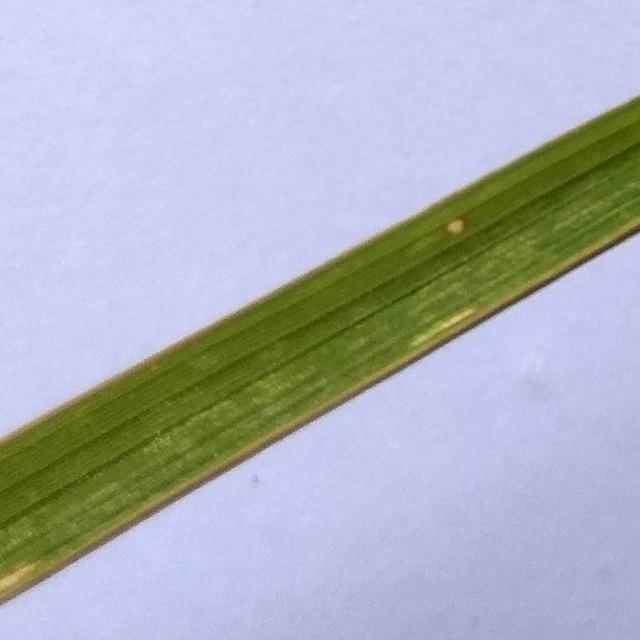Blast: (442, 217, 469, 236)
